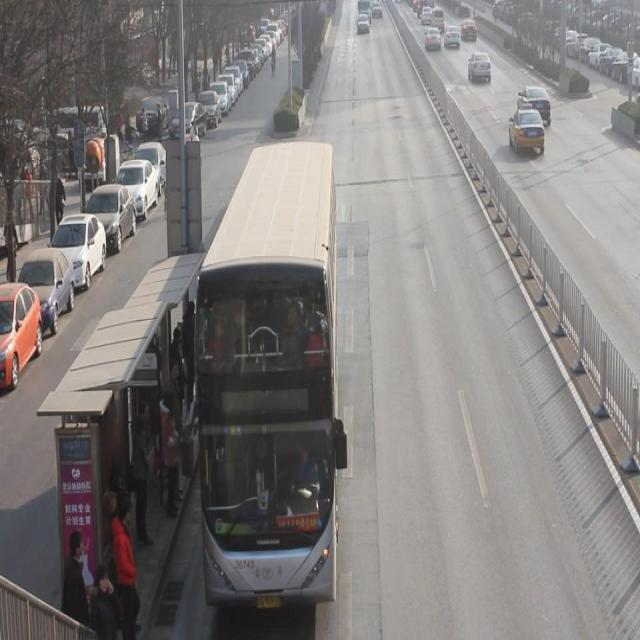car: (508, 101, 546, 157), (517, 84, 552, 128), (468, 50, 492, 85), (425, 25, 442, 53), (444, 23, 460, 49), (462, 17, 477, 42), (420, 1, 434, 24), (357, 12, 370, 35)
truck: (432, 1, 445, 29)
van: (194, 141, 338, 601)
